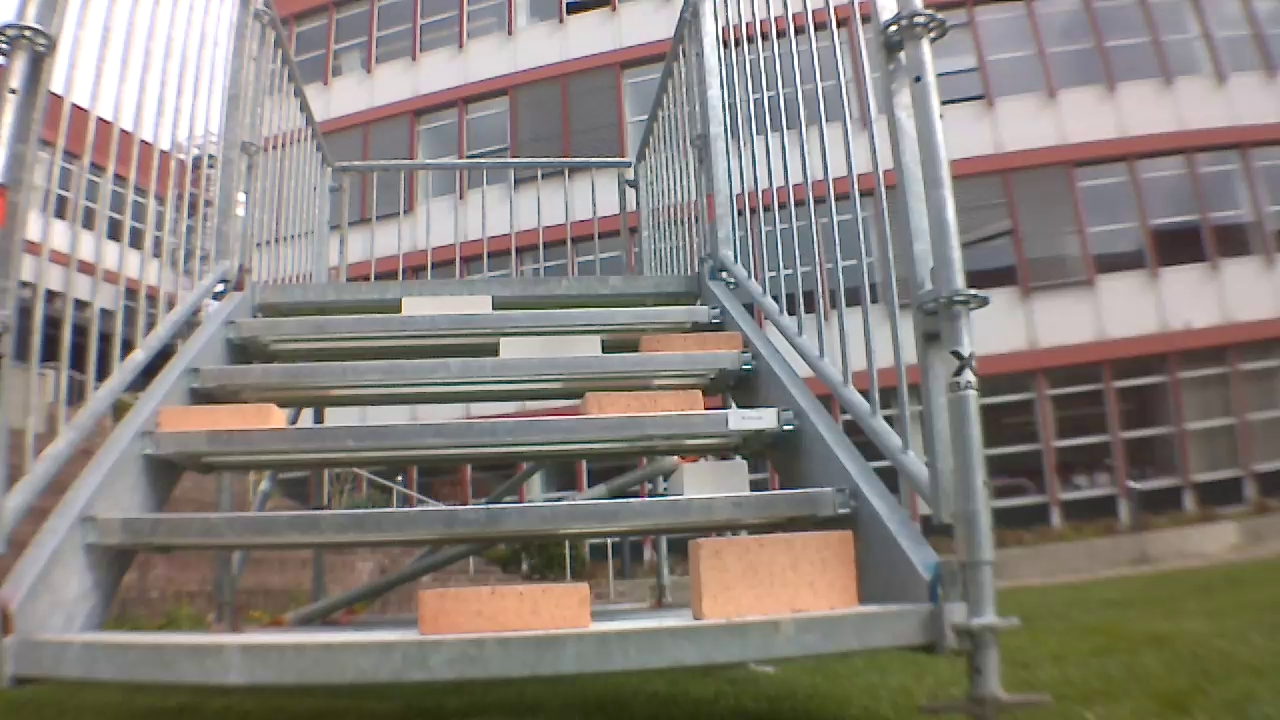brick: (691, 525, 862, 616), (412, 584, 586, 640), (151, 398, 286, 433), (581, 386, 711, 418), (637, 329, 751, 360), (500, 335, 605, 363), (674, 457, 753, 491), (396, 292, 493, 316)
edge: (7, 606, 951, 689), (84, 480, 860, 554), (142, 403, 802, 459), (183, 347, 768, 387), (219, 303, 725, 338), (248, 272, 706, 304)
stairs: (0, 0, 1020, 701)
steps: (0, 267, 941, 692)
